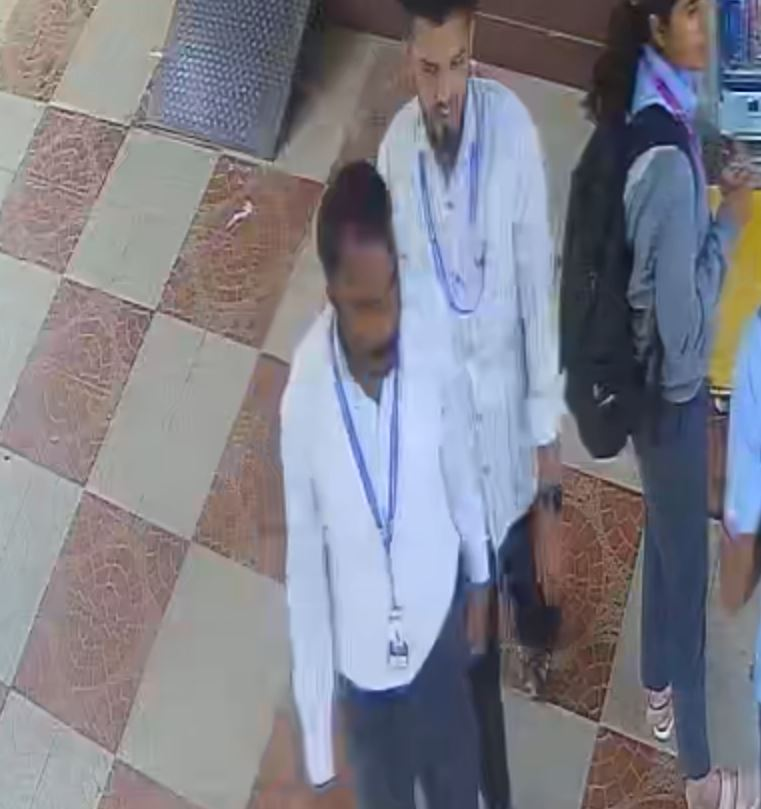not intruder: (264, 159, 516, 809), (371, 1, 563, 660)
